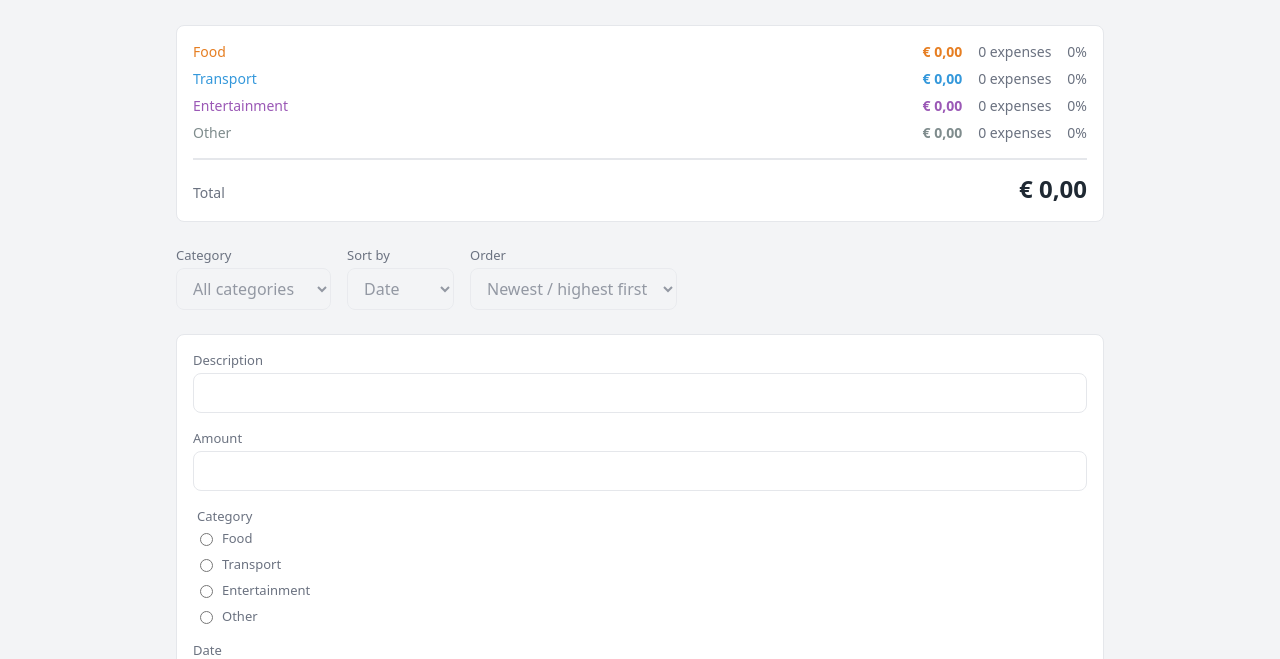
Test case: App › adds an expense and resets the form
Type "Lunch" into the field with id "expense-description" at (640, 393), box [193,373,1087,413]
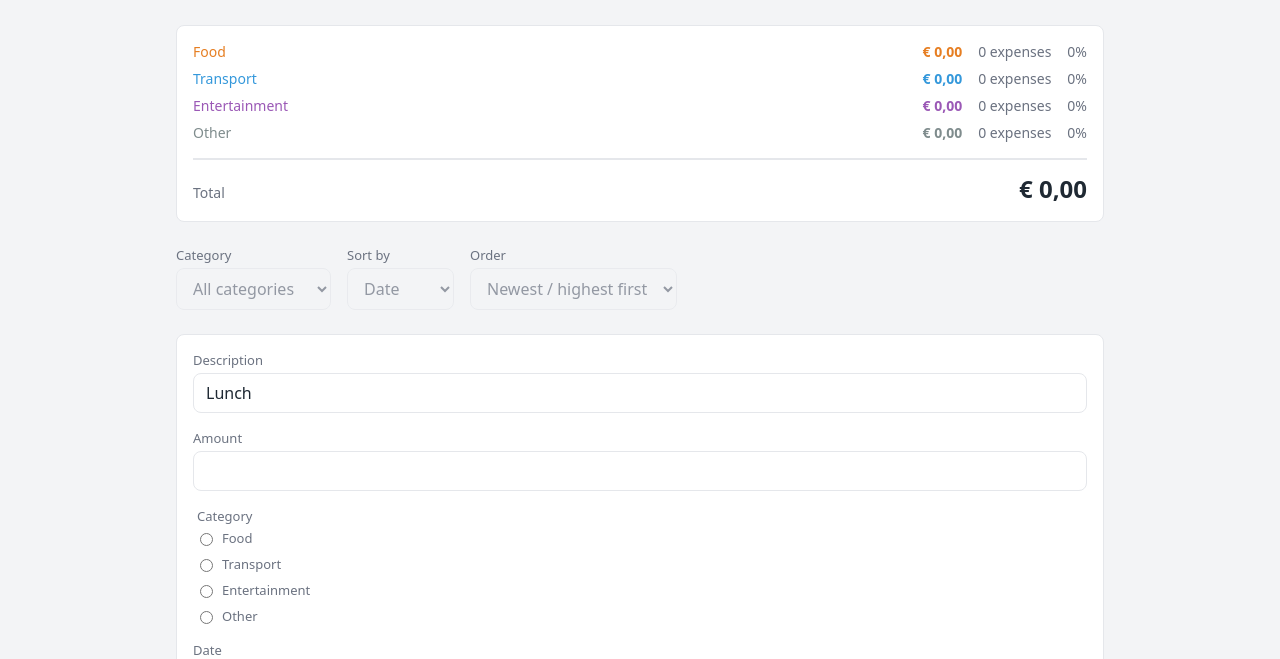
Type "12,34" into the field with id "expense-amount" at (640, 471), box [193,451,1087,491]
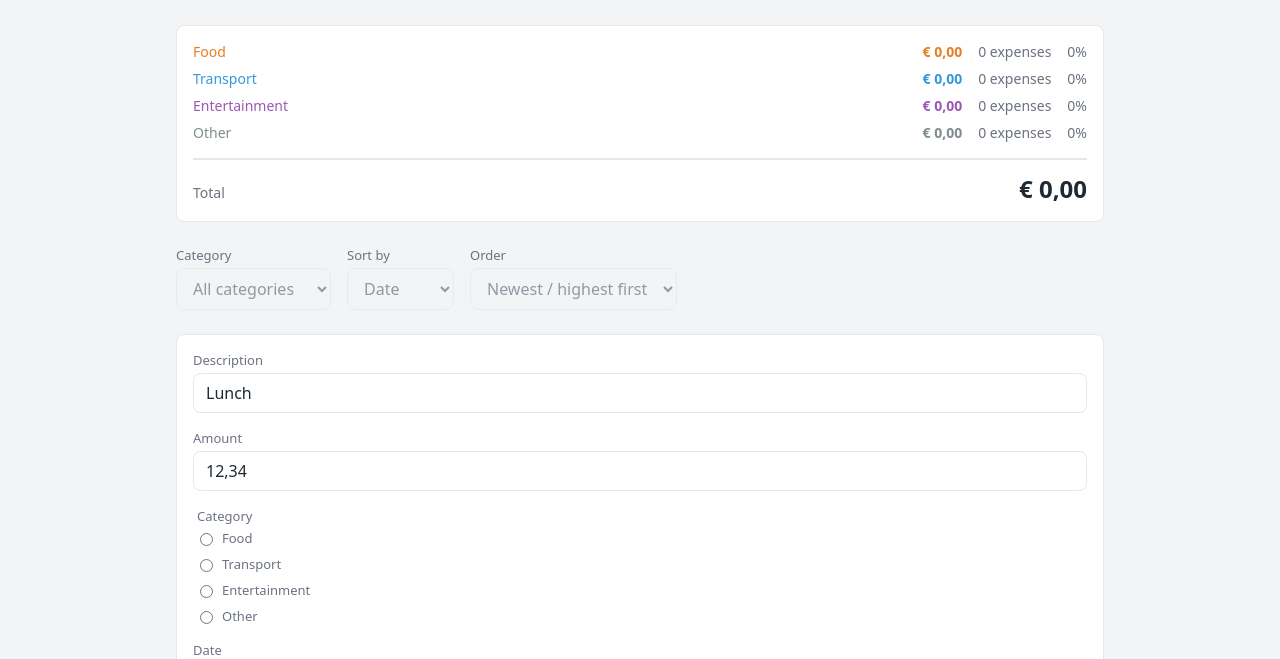
Click the radio button labelled "Food" at (206, 540), box [200,533,213,546]
(page scrolled)
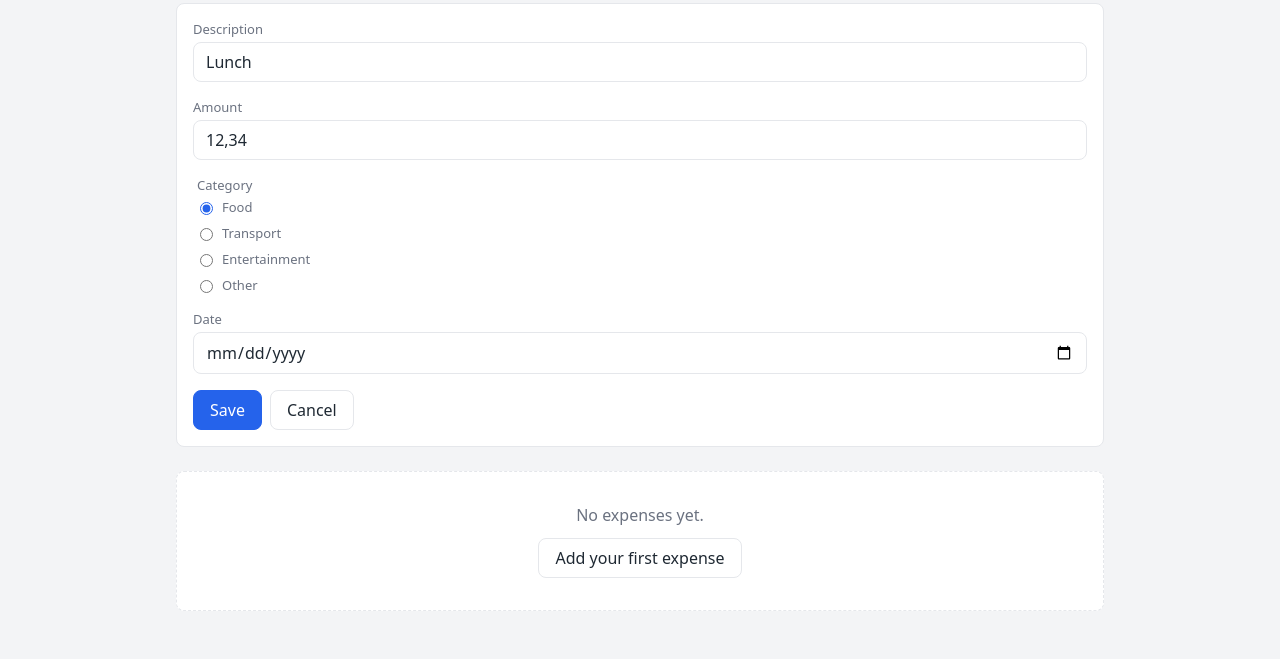
Type "2026-10-01" into the date field with id "expense-date" at (640, 353), box [193,332,1087,374]
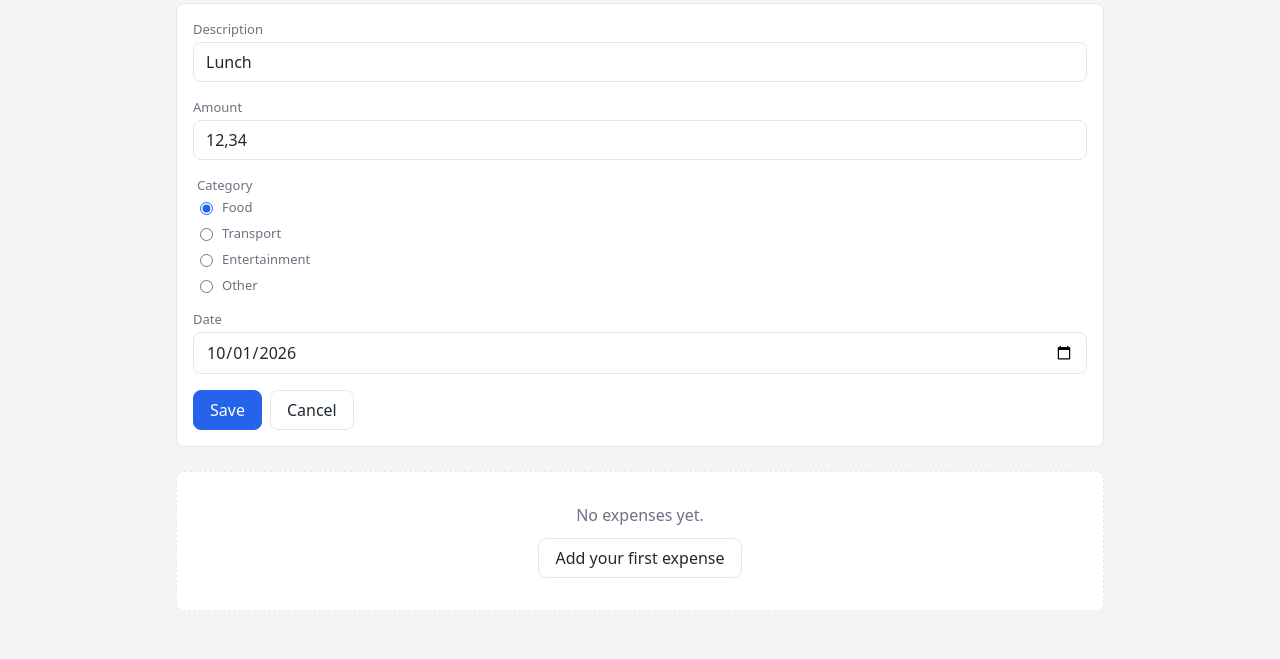
Submit the form, box [176,3,1104,447]
(page scrolled)
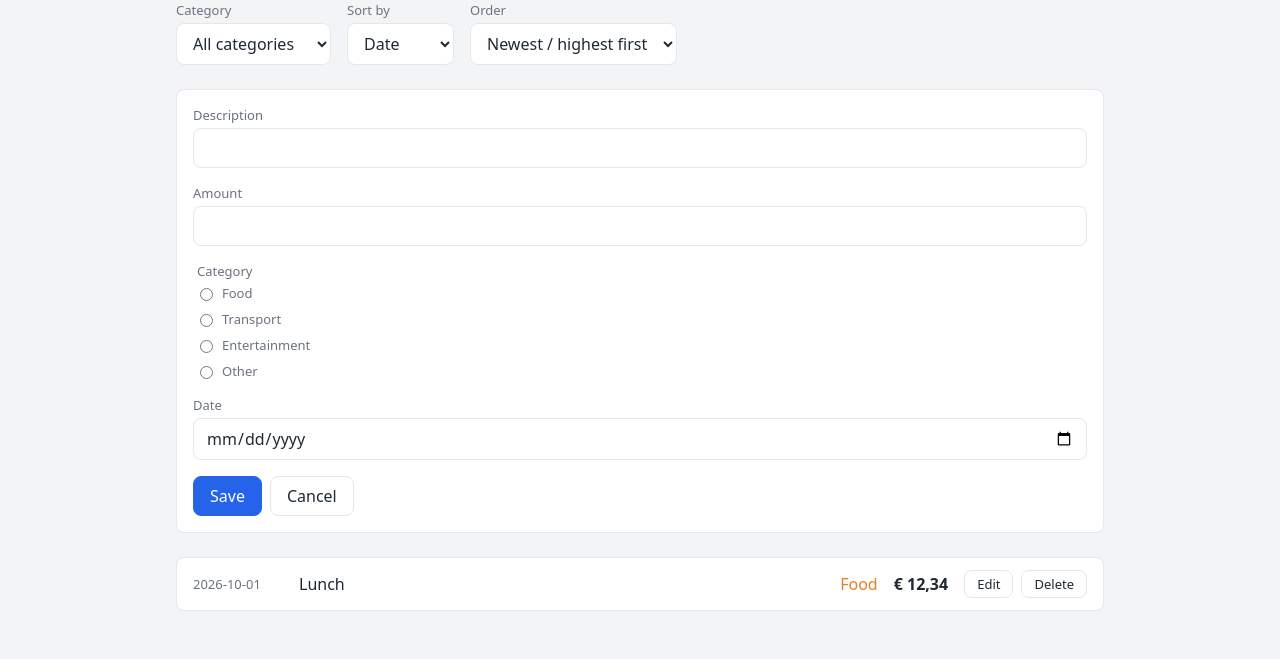
Result: the number of list items with class "expense-item" is 1 at [176,557,1104,611]
Result: the text with class "expense-description" reads "Lunch" at [299,573,345,595]
Result: the field with id "expense-description" is empty at [193,128,1087,168]
